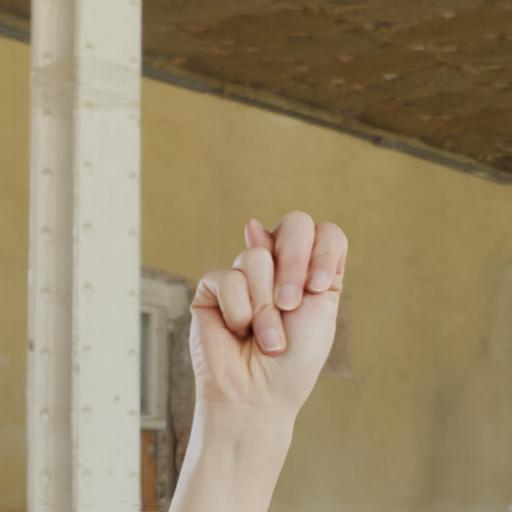N: (183, 204, 349, 414)
